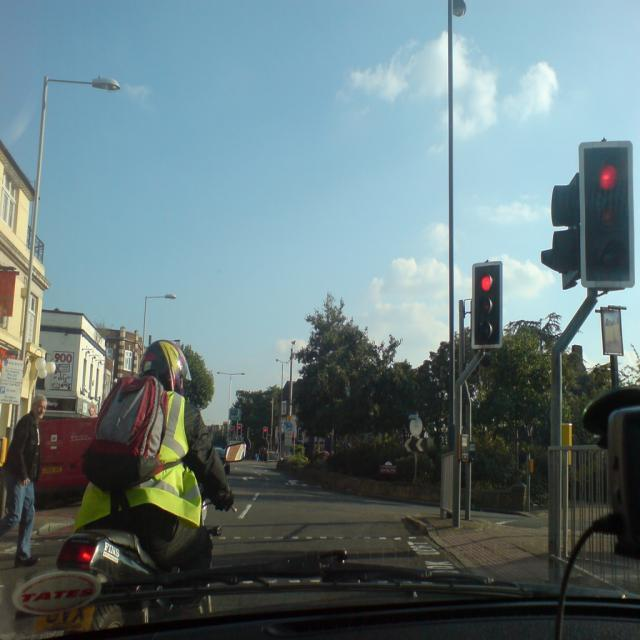traffic light: (580, 143, 635, 289), (472, 265, 503, 342)
